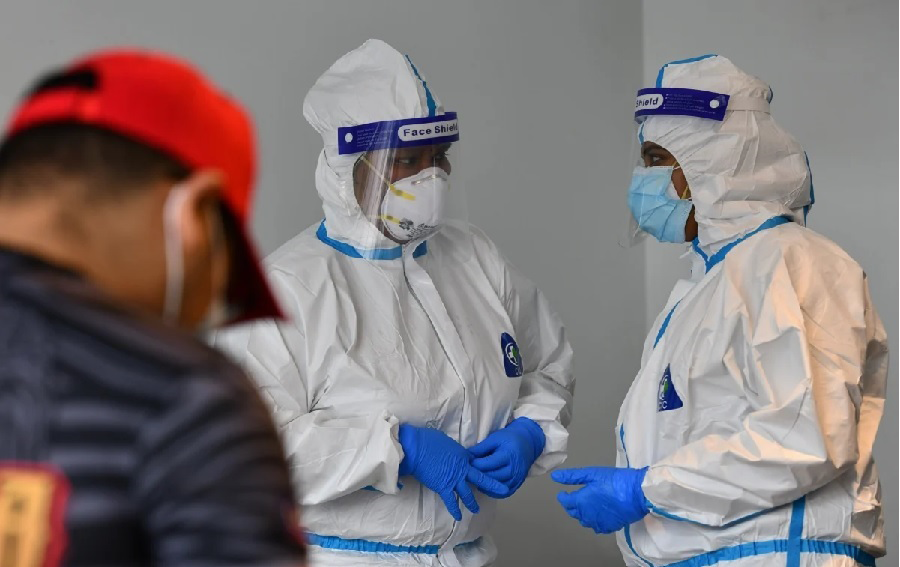Coverall: (256, 39, 571, 567), (615, 59, 890, 567)
Gloves: (371, 405, 501, 521), (544, 460, 667, 535), (470, 404, 552, 498)
with_mask: (626, 145, 707, 245), (373, 153, 453, 243)
